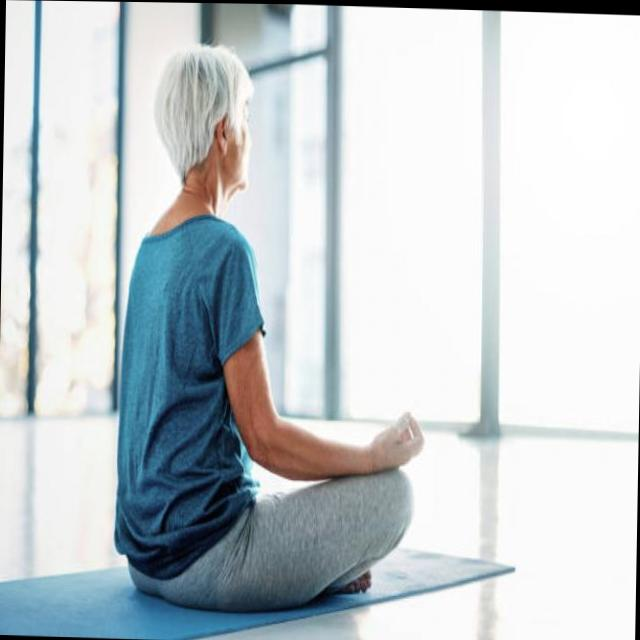no helmet: (143, 27, 263, 206)
